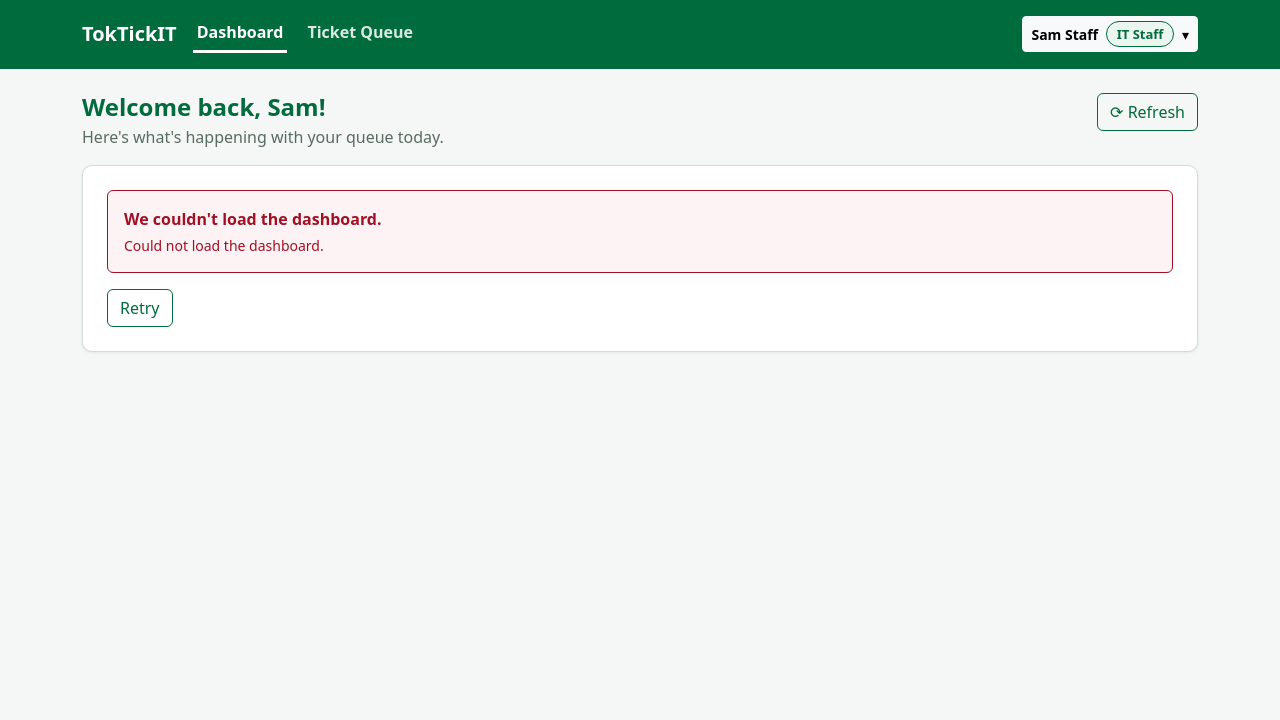
Scenario: Staff Dashboard — states (AC-28) › shows an error banner with Retry and no stale numbers on API failure
The image size is (1280, 720).
expect the message shows "couldn't load the dashboard": met, box [124, 208, 382, 230]
Click the button "Retry": (140, 308) [107, 289, 172, 327]
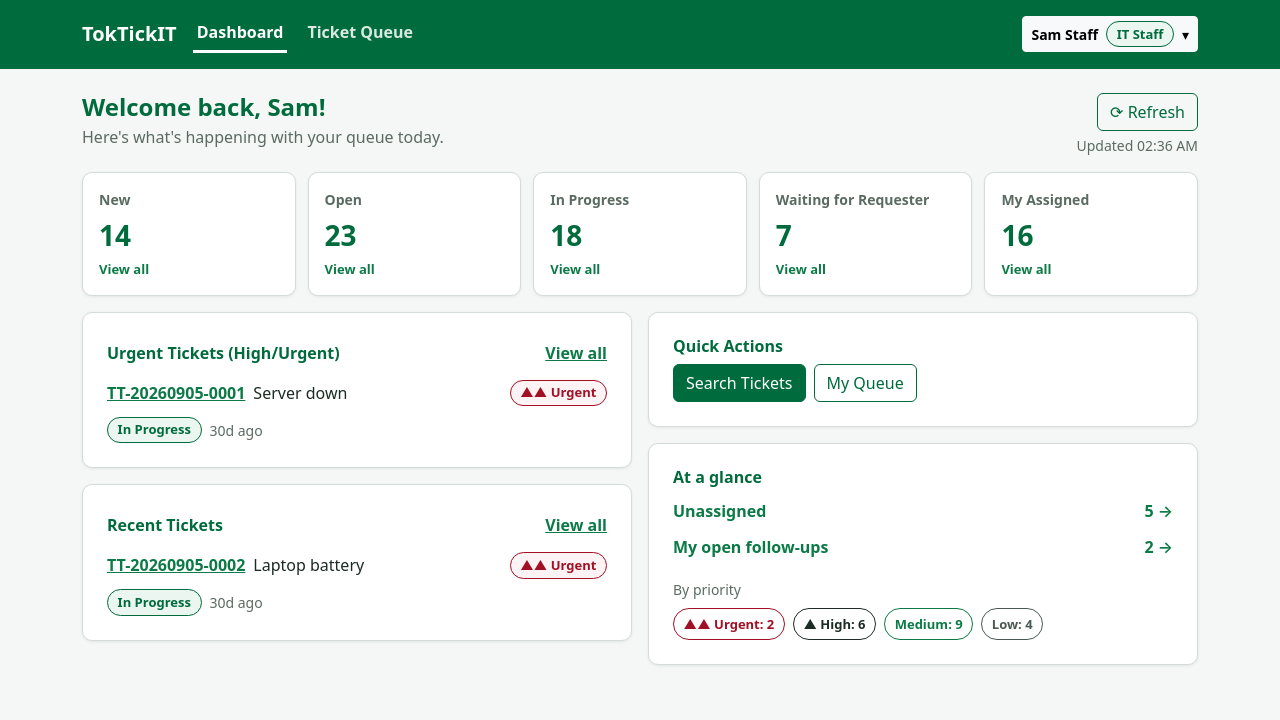
expect the button with aria-label "New: 14, view all" is shown: met, box [82, 172, 296, 296]
